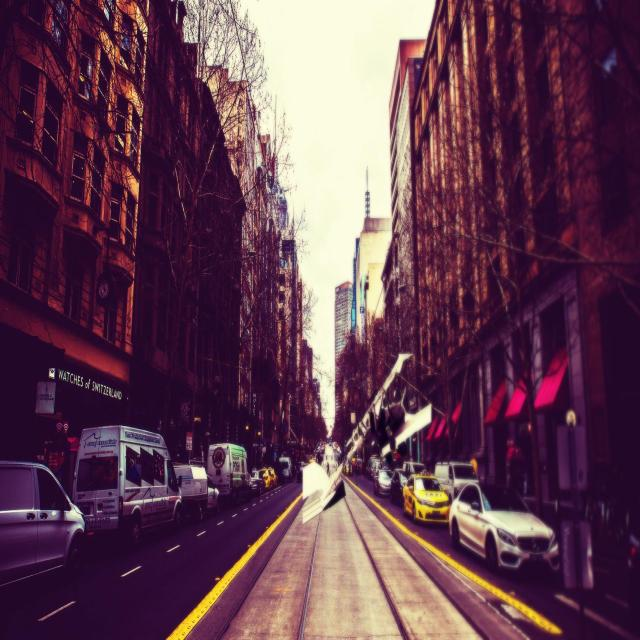airplane: (301, 351, 444, 524)
